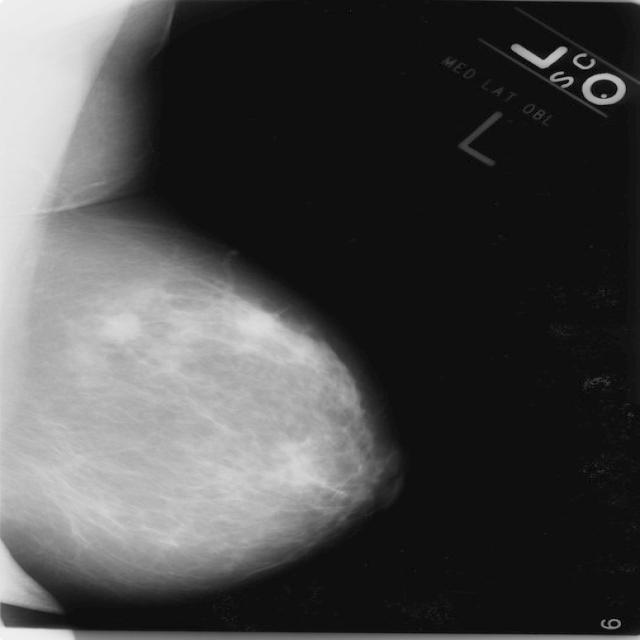tumour: (93, 310, 138, 343)
